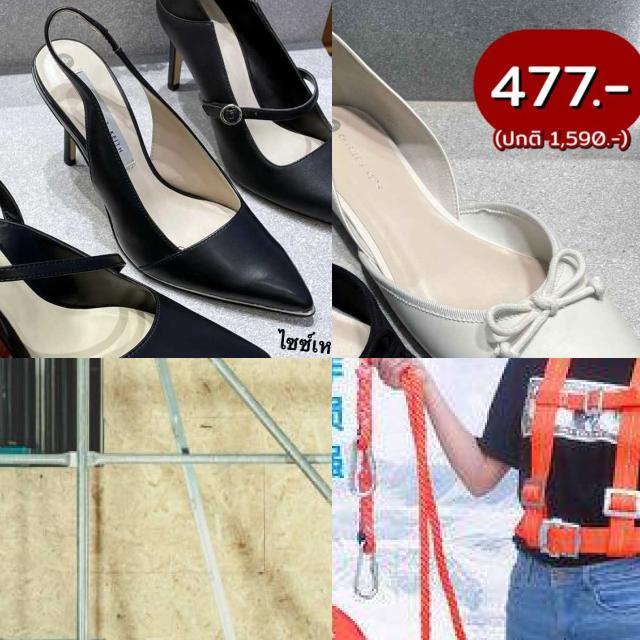Harness: (506, 358, 640, 640)
Sandals: (332, 0, 640, 358), (14, 0, 314, 346), (0, 113, 293, 358), (115, 0, 332, 288), (332, 80, 479, 358)
